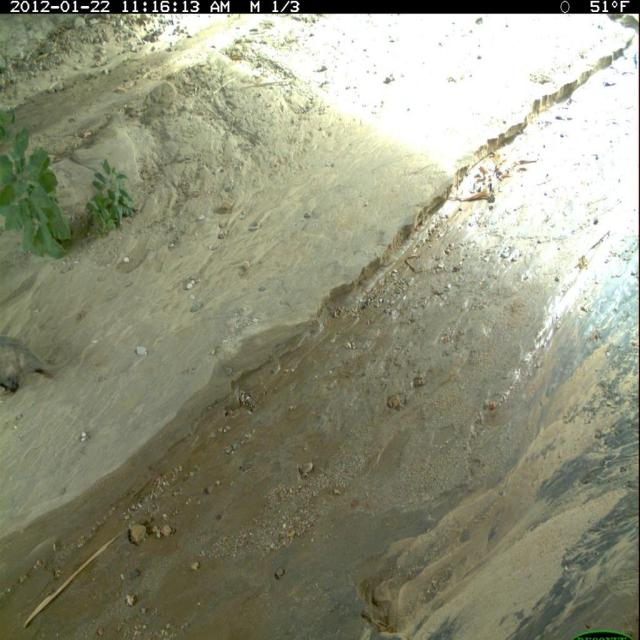opossum: (1, 328, 85, 405)
